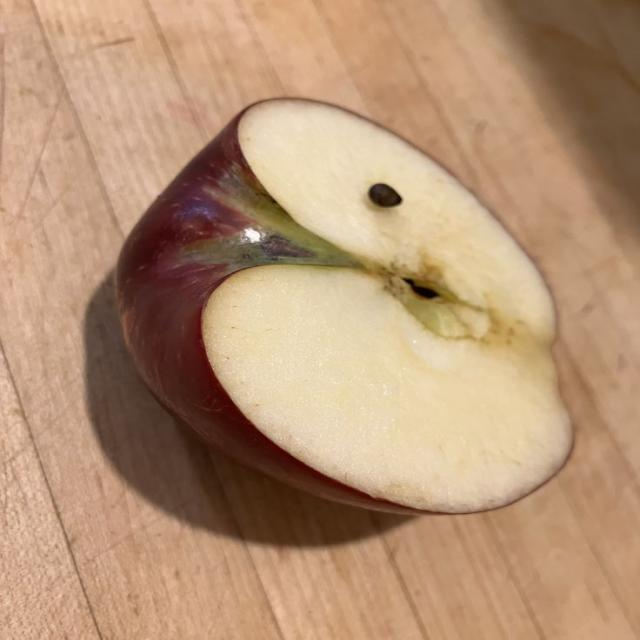apple: (117, 100, 571, 512)
